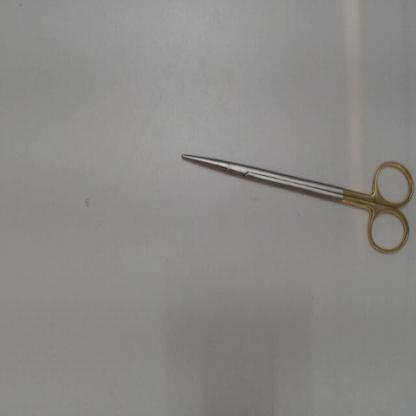7 Metzenbaum Scissors: (180, 152, 416, 260)
